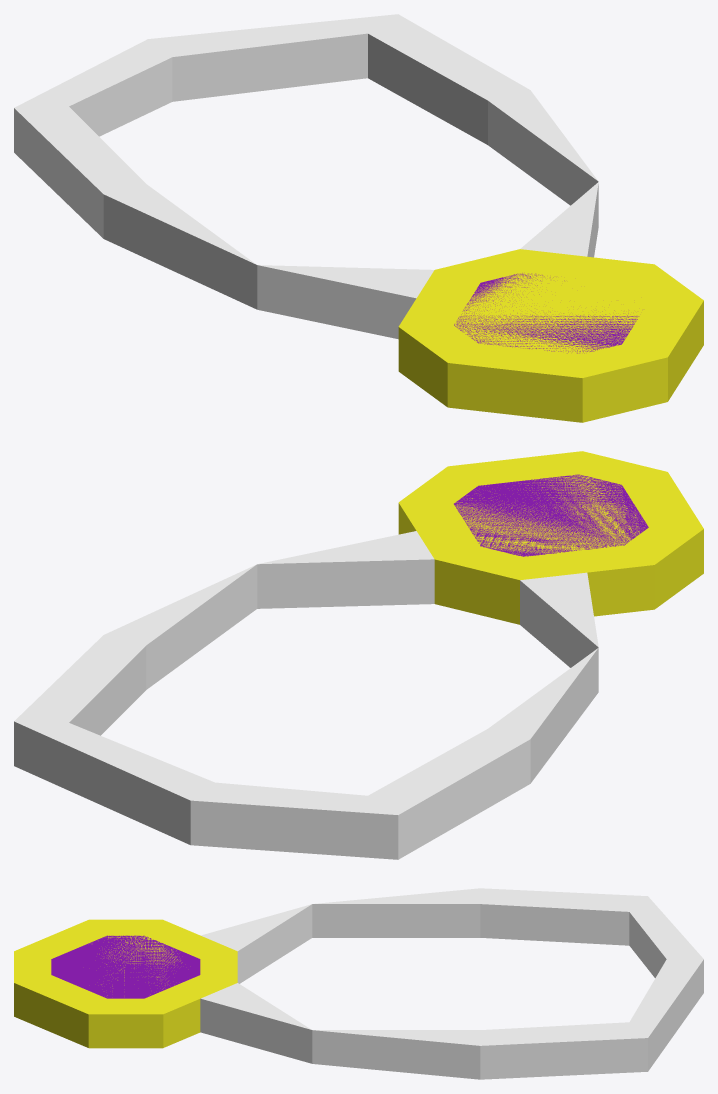
Rendered from jewelry-teleports.gltf.
3 views of the same model, one above another, from view 1: azimuth 30°, elevation 25°; view 2: azimuth 150°, elevation 25°; view 3: azimuth 270°, elevation 25° (orthographic). The views are drawn at different scales.
Size of the model in its own units: 20 by 2 by 37.
1 material, 1 textured.
